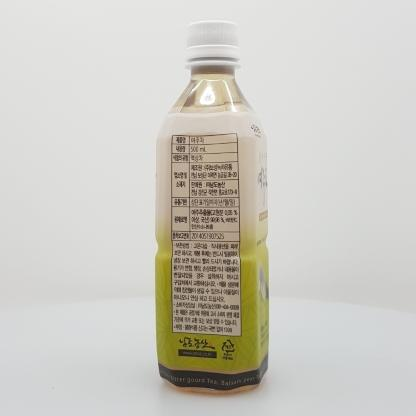-----------500ML: (155, 20, 269, 395)
